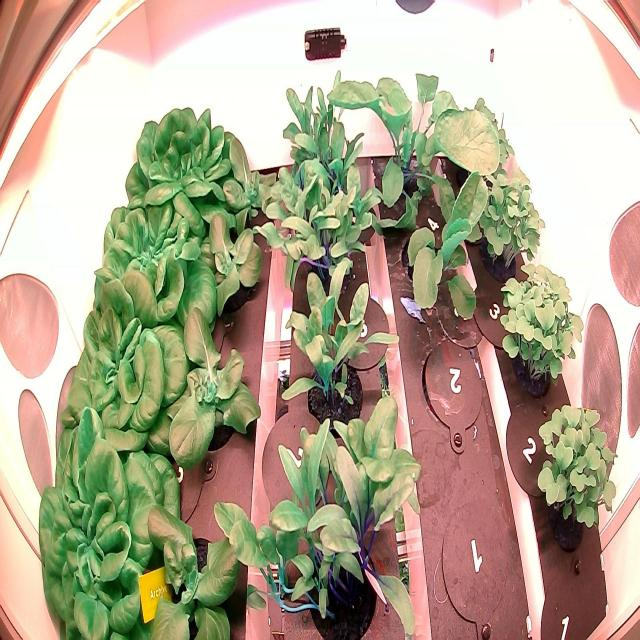Ready: (31, 401, 180, 640), (54, 264, 194, 491), (83, 195, 226, 362), (120, 95, 240, 241)
empty_pod: (437, 496, 521, 638), (416, 331, 486, 459)
